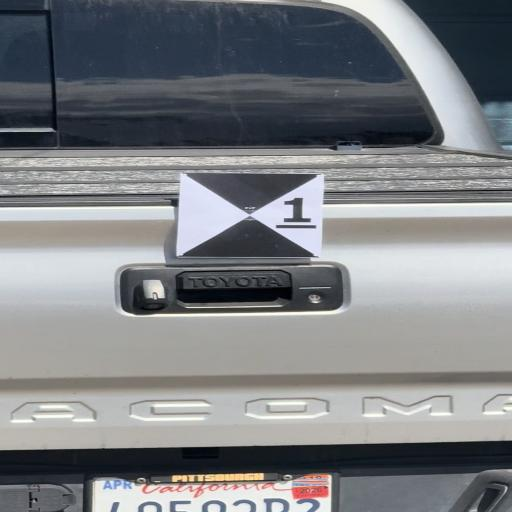target1: (182, 173, 320, 257)
